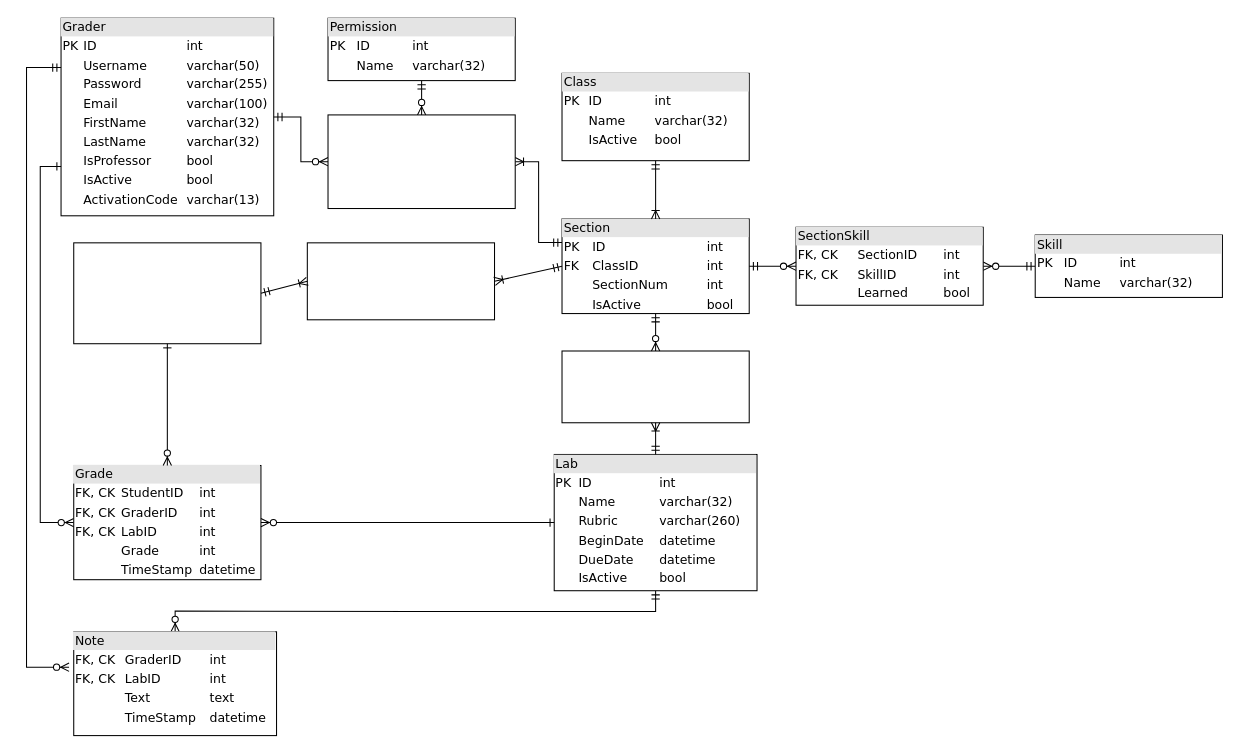
Image size: 1241x754. Some labels were removed from this diagram. Each missing label, with the centre of its shape:
"Access FK, CK GraderID int FK, CK PermissionID int FK, CK SectionID int" belongs at [421,161].
"SectionLab FK, CK SectionID int FK, CK LabID int IsActive bool" belongs at [655,386].
"Student PK ID int FirstName varchar(32) LastName varchar(32) IsActive bool" belongs at [167,293].
"StudentSection FK, CK StudentID int FK, CK SectionID int IsActive bool" belongs at [400,281].
